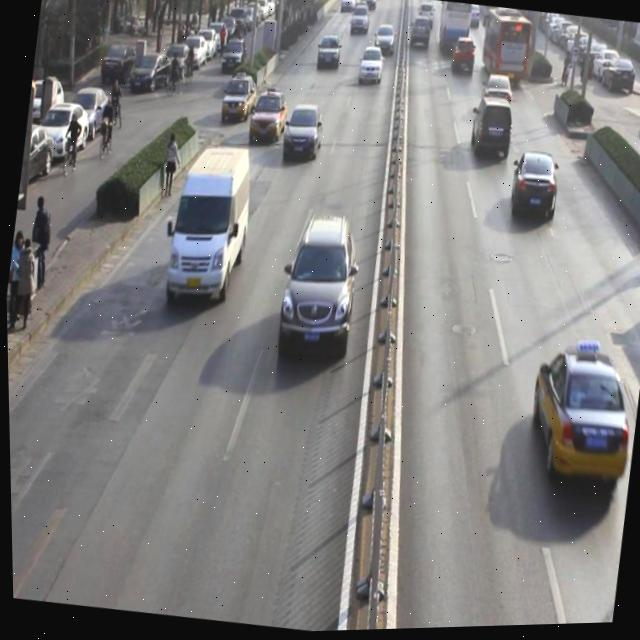car: (516, 340, 640, 501), (270, 208, 366, 371), (506, 152, 563, 228), (466, 95, 517, 167), (278, 106, 326, 169), (246, 89, 288, 147), (219, 75, 260, 124), (479, 74, 515, 122), (448, 38, 478, 81), (313, 33, 344, 74), (356, 48, 386, 90), (372, 25, 398, 60), (408, 20, 434, 54), (348, 4, 371, 39)
truck: (158, 142, 262, 315)
van: (476, 9, 535, 94)
